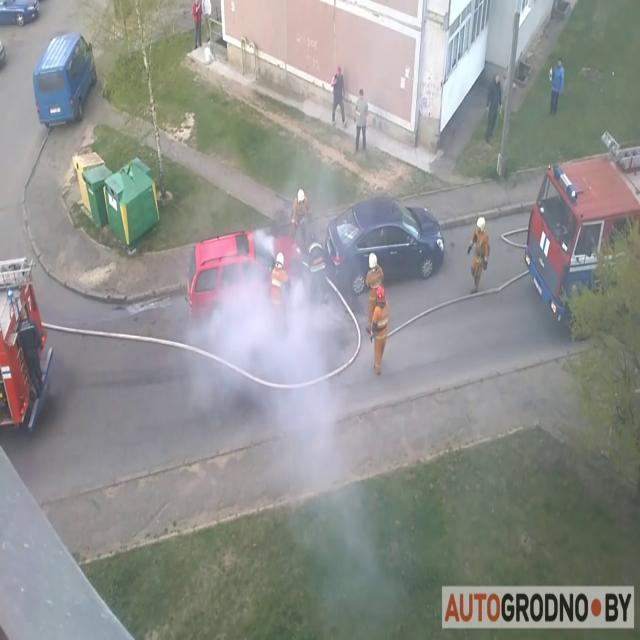Smoke: (162, 91, 388, 634)
